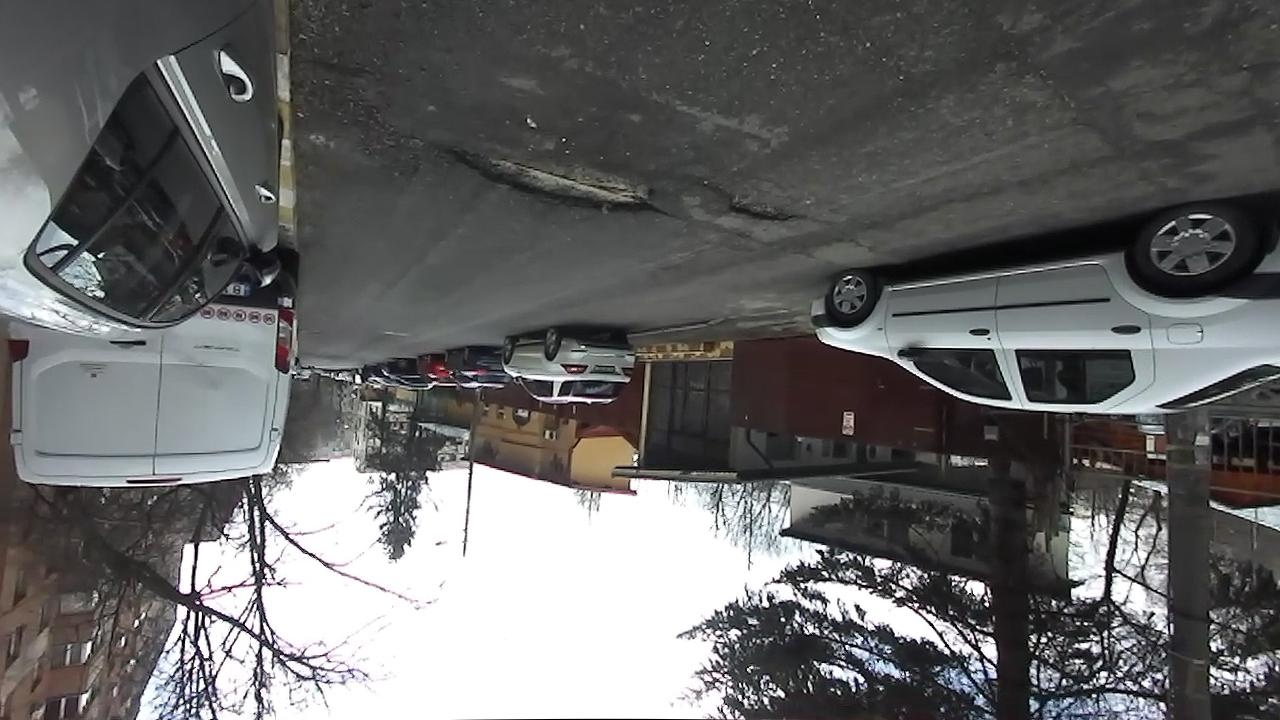pothole: (431, 140, 672, 219), (703, 176, 812, 226)
